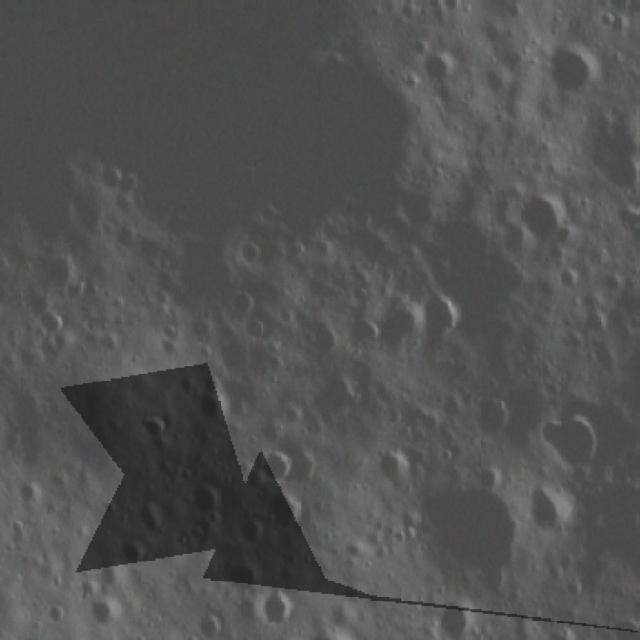crater: (408, 470, 532, 596), (527, 406, 616, 472), (516, 179, 582, 252), (520, 478, 582, 544), (541, 40, 604, 102), (420, 283, 471, 349), (466, 387, 520, 448), (181, 474, 230, 524), (266, 488, 314, 538), (218, 552, 268, 596), (259, 586, 303, 632), (252, 444, 298, 487), (196, 387, 238, 433), (418, 50, 458, 93), (79, 590, 119, 632), (189, 603, 234, 640), (346, 313, 386, 350), (232, 508, 268, 546), (138, 408, 174, 446), (117, 538, 158, 571)
